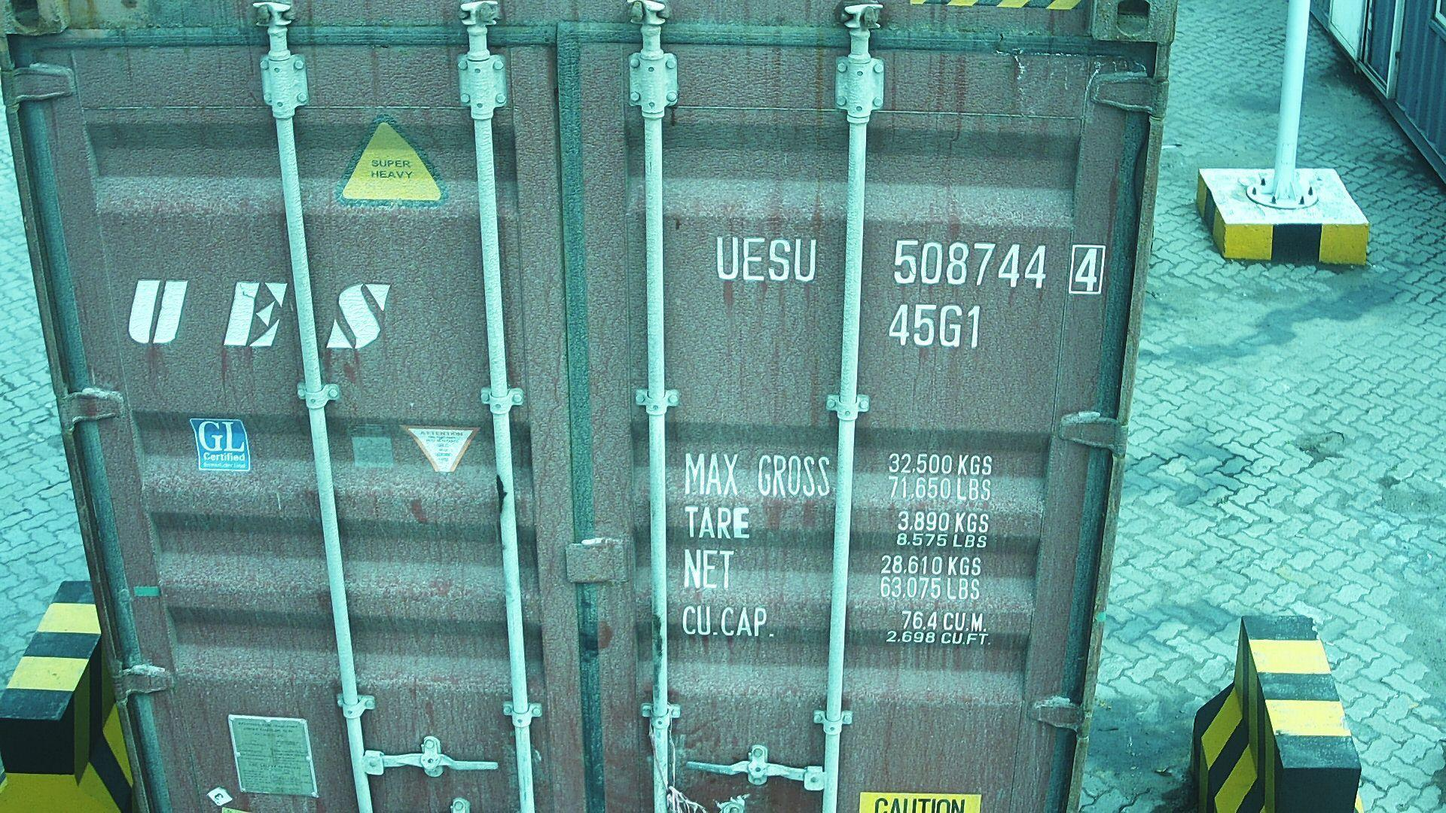container-numbers: (713, 233, 1113, 298), (884, 300, 987, 351)
